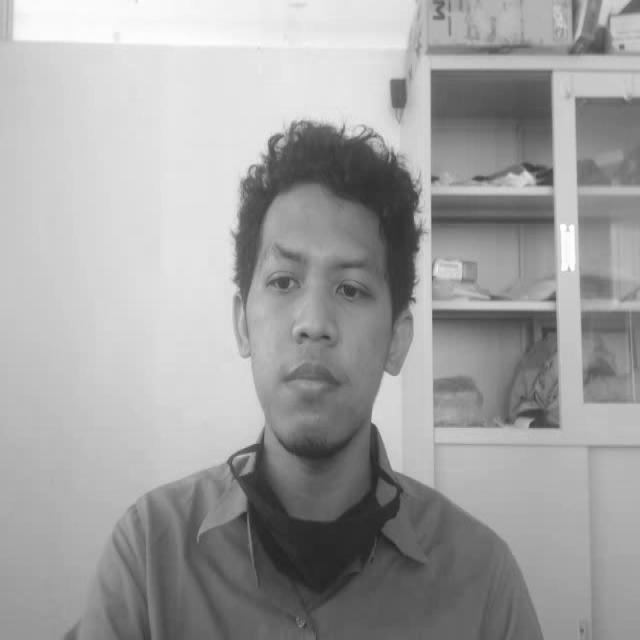real: (218, 114, 433, 472)
